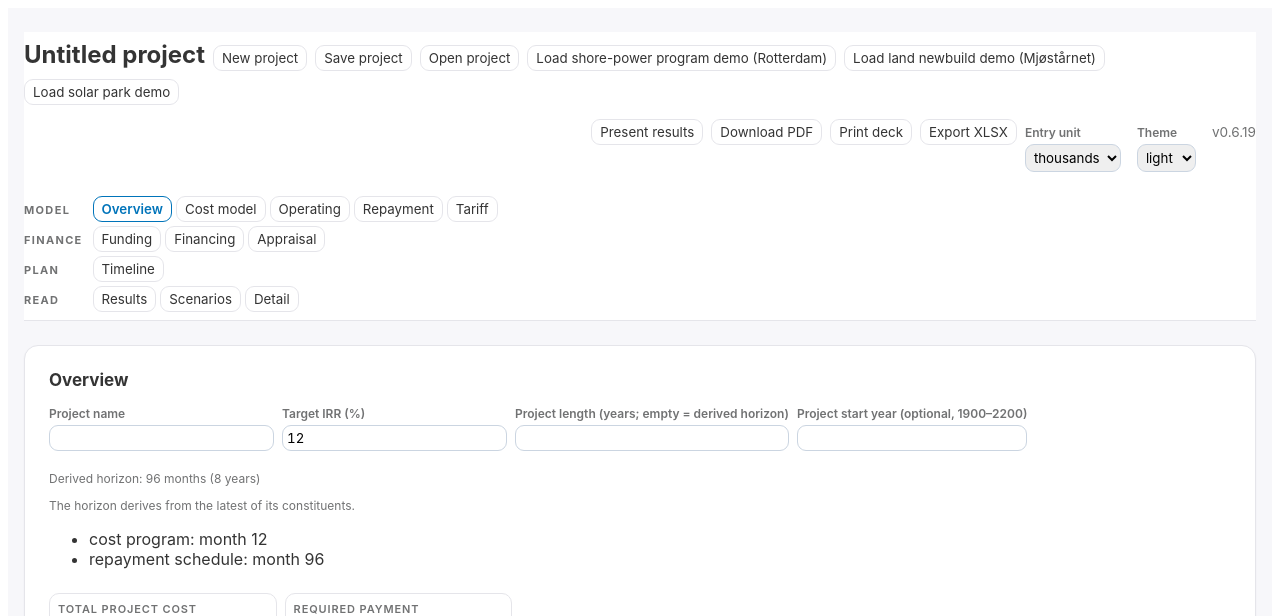
Test: Task G: the deck design system (structural pins) › header and footer chrome render on every slide; disclosures are muted
The image size is (1280, 616).
Click the button "Load shore-power program demo (Rotterdam)" at (682, 58), box left=527, top=45, right=836, bottom=71
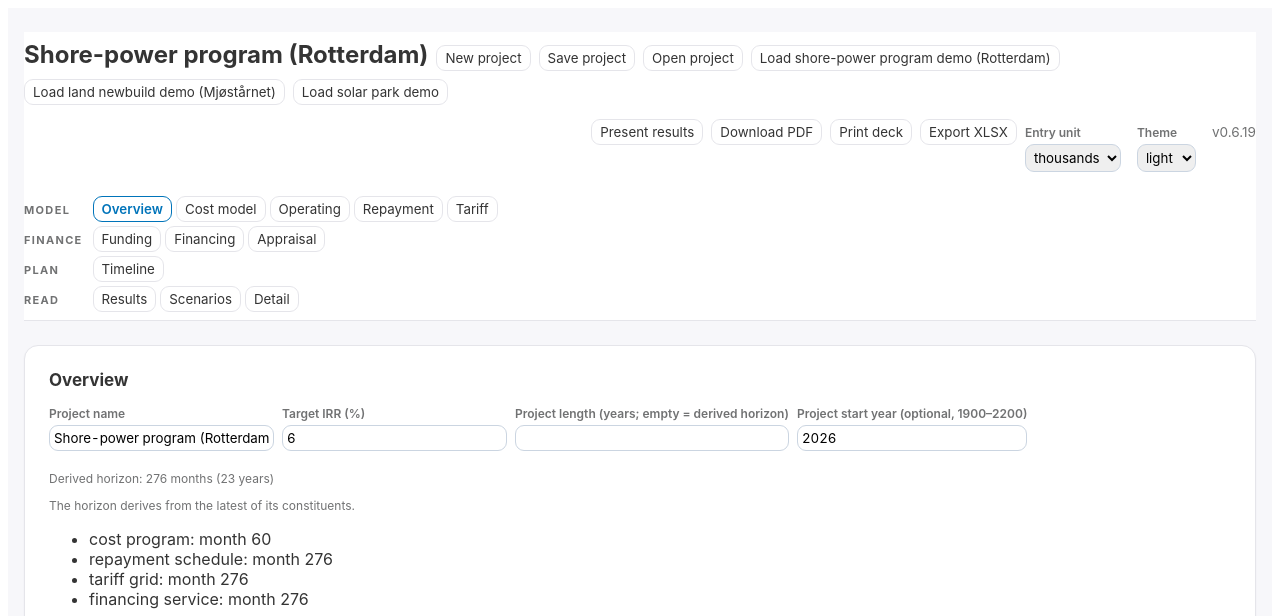
Click the button "Present results" at (647, 132), box left=591, top=119, right=703, bottom=145
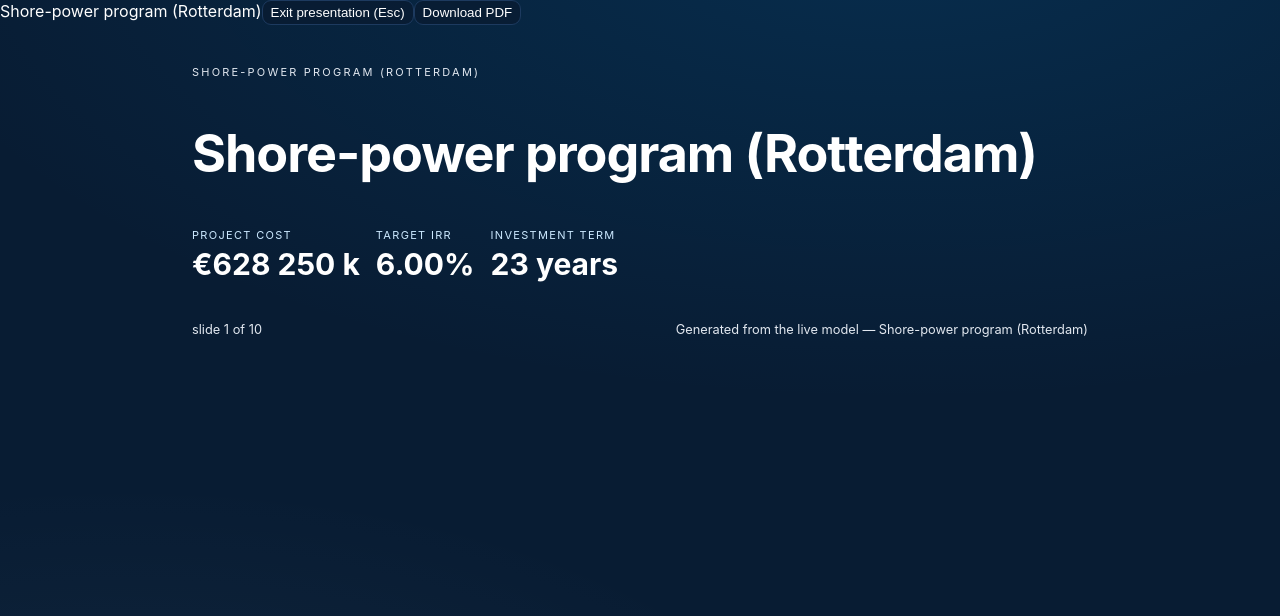
Expected: the header with class "deck-slide-header" is shown, left=192, top=65, right=480, bottom=79
Expected: the footer with class "deck-slide-footer" is shown, left=192, top=322, right=1088, bottom=337
